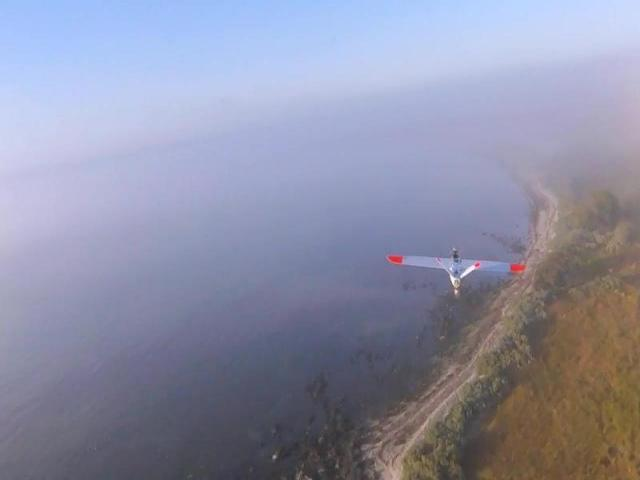hedef: (371, 244, 546, 300)
